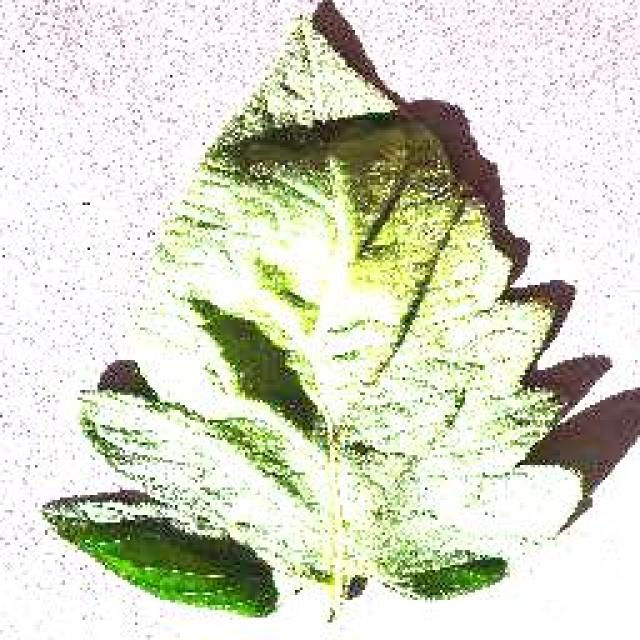Tomato___healthy: (31, 11, 597, 623)
